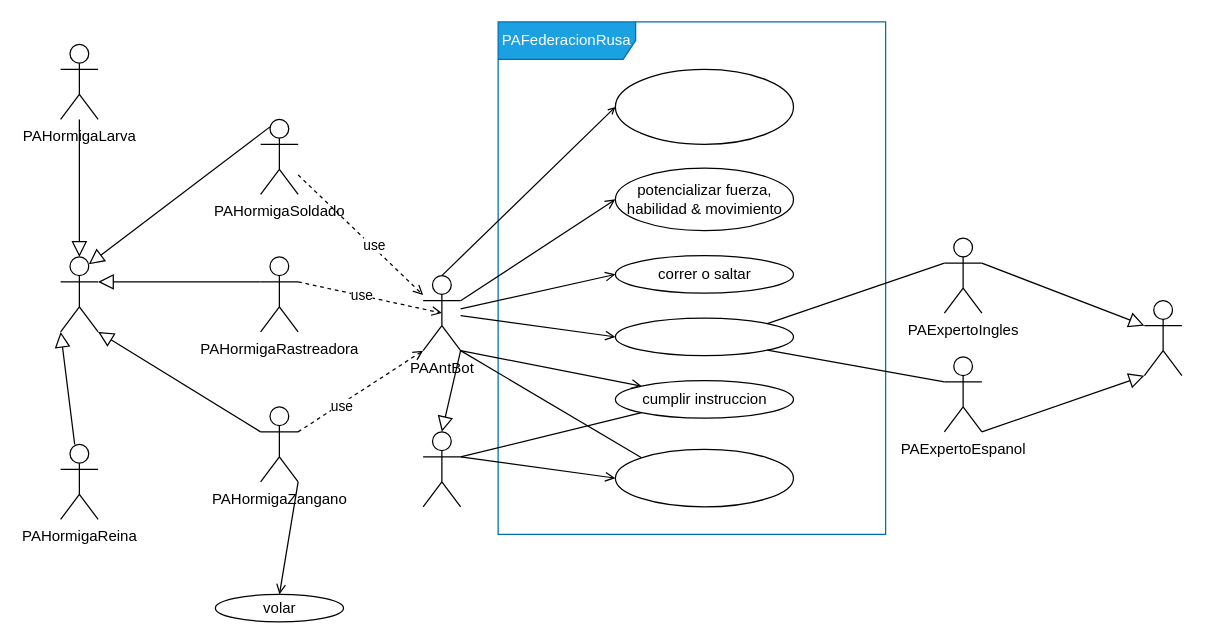
The diagram is 1221 pixels wide and 644 high, and some of its shapes have lost their labels. The shapes that lost their labels are listed below. From the top down, each one's centre as x and y in pixels, then its label:
At pixel 704 106: "entender persona & comunicarse con otra hormiga".
At pixel 78 294: "PAHormiga".
At pixel 704 336: "aprender ingles & ruso".
At pixel 1162 337: "PAHumano".
At pixel 441 469: "PAMatriz".
At pixel 704 477: "usar sensor, antena & radio de comunicación".
